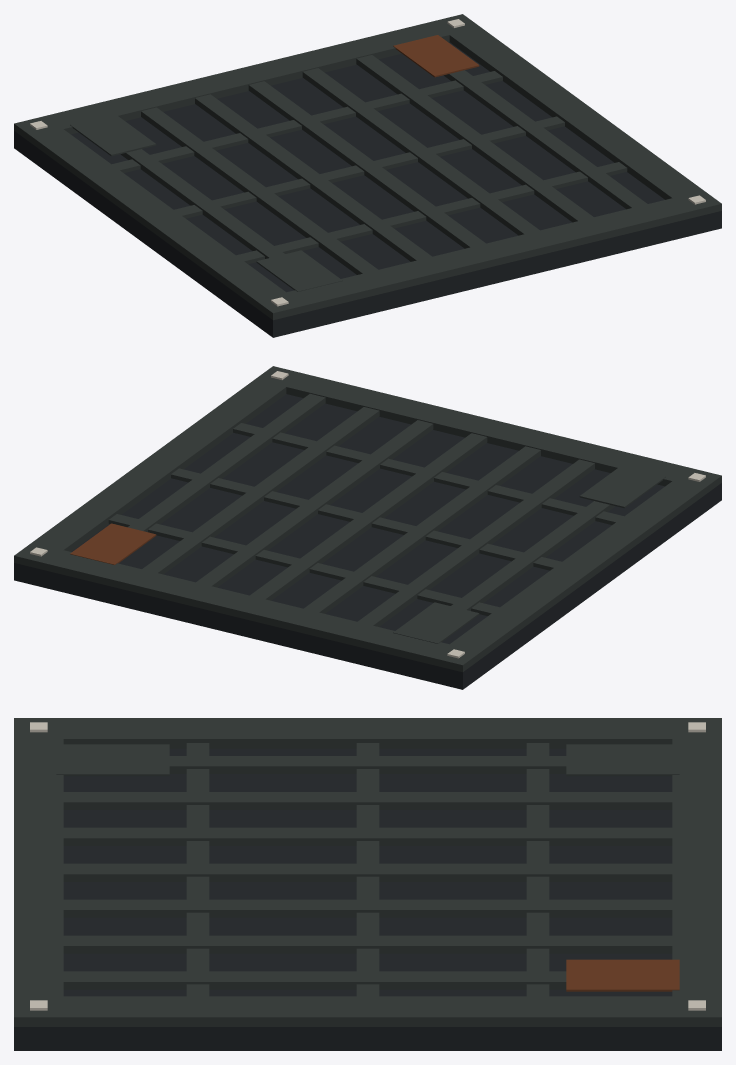
File: floor_tile.glb
3 renders of one model, top to bottom at view 1: azimuth 30°, elevation 25°; view 2: azimuth 150°, elevation 25°; view 3: azimuth 270°, elevation 25°, orthographic. The views are drawn at different scales.
Parts seen in each view (by area): view 1: floor_tile; view 2: floor_tile; view 3: floor_tile.
Boxes of the visible parts, left/top/right/bottom form: floor_tile: left=14, top=14, right=721, bottom=337; floor_tile: left=14, top=366, right=721, bottom=689; floor_tile: left=14, top=718, right=721, bottom=1050.
Bounding box in the file's own units: 2 × 0.128 × 2.
